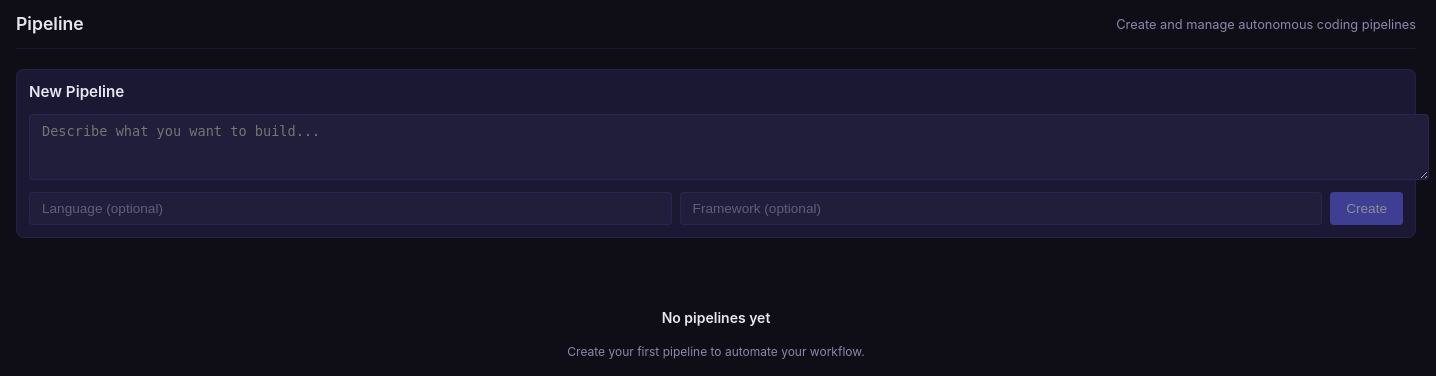
Test: PipelinePanel › Create button becomes enabled when the user types a goal
In the text box with placeholder "Describe what you want to build...": point(729, 147) [29,114,1429,180], type "Build a CRUD API for users"
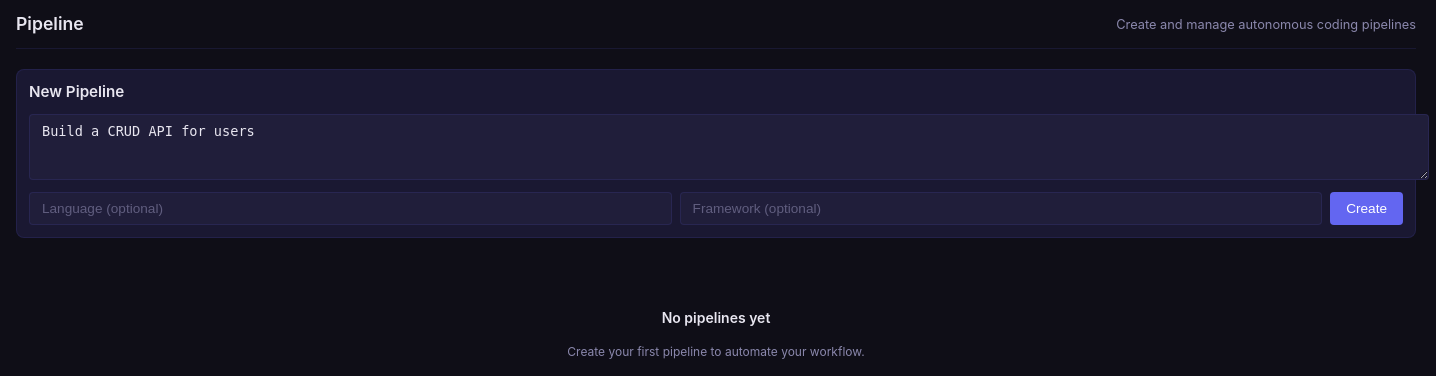
Now the button "Create" is enabled, box [1330,192,1403,225]
